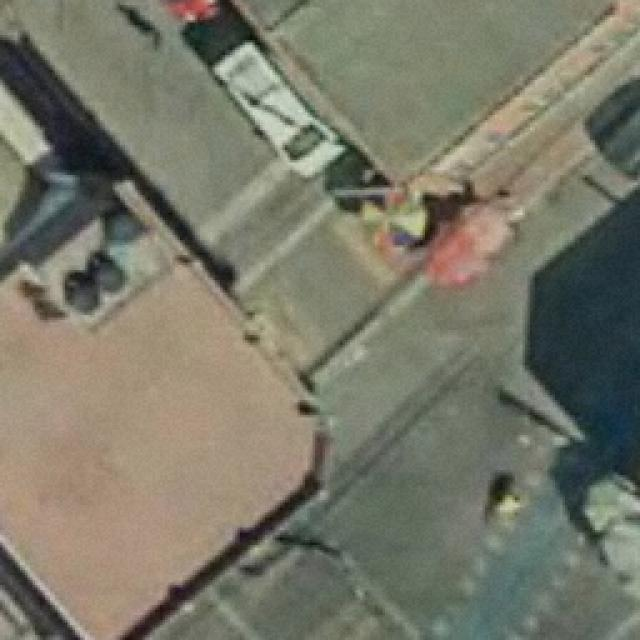vendedor_ambulante: (360, 184, 428, 255), (423, 217, 489, 287), (576, 468, 640, 533), (452, 198, 514, 255), (592, 510, 640, 580)
